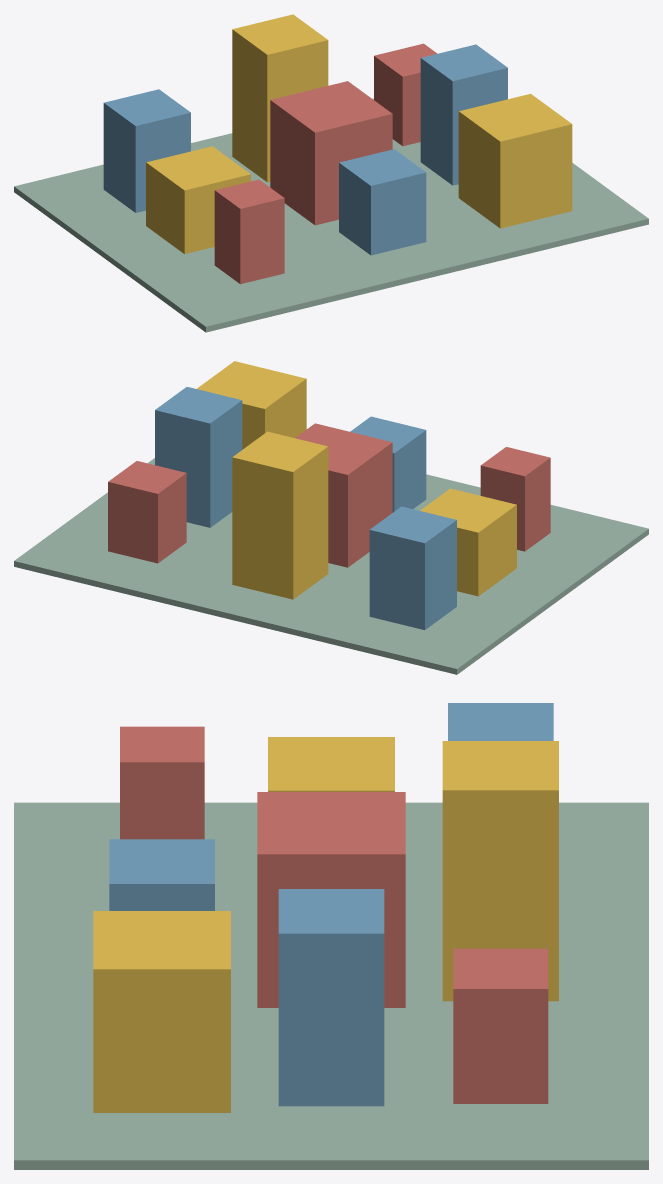
Rendered from 006b-light-performance-pbr.glb.
3 views of the same model, one above another, from view 1: azimuth 30°, elevation 25°; view 2: azimuth 150°, elevation 25°; view 3: azimuth 270°, elevation 25° (orthographic). The views are drawn at different scales.
Parts seen in each view (by area): view 1: PBR Floor, PBR Box 09, PBR Box 05, PBR Box 02, PBR Box 08, PBR Box 06, PBR Box 01, PBR Box 04, PBR Box 07, PBR Box 03; view 2: PBR Floor, PBR Box 02, PBR Box 01, PBR Box 06, PBR Box 05, PBR Box 03, PBR Box 04, PBR Box 09, PBR Box 07, PBR Box 08; view 3: PBR Floor, PBR Box 09, PBR Box 02, PBR Box 06, PBR Box 05, PBR Box 03, PBR Box 07, PBR Box 08, PBR Box 04, PBR Box 01.
Boxes of the visible parts, x1=… form: PBR Floor: x1=14, y1=98, x2=648, y2=332; PBR Box 09: x1=458, y1=93, x2=572, y2=228; PBR Box 05: x1=270, y1=81, x2=392, y2=225; PBR Box 02: x1=232, y1=14, x2=328, y2=182; PBR Box 08: x1=339, y1=149, x2=426, y2=255; PBR Box 06: x1=420, y1=44, x2=507, y2=185; PBR Box 01: x1=103, y1=89, x2=190, y2=212; PBR Box 04: x1=146, y1=146, x2=250, y2=254; PBR Box 07: x1=214, y1=179, x2=284, y2=284; PBR Box 03: x1=374, y1=43, x2=437, y2=146; PBR Floor: x1=14, y1=458, x2=648, y2=674; PBR Box 02: x1=232, y1=431, x2=328, y2=599; PBR Box 01: x1=369, y1=506, x2=456, y2=629; PBR Box 06: x1=155, y1=387, x2=242, y2=527; PBR Box 05: x1=295, y1=423, x2=392, y2=567; PBR Box 03: x1=108, y1=461, x2=186, y2=563; PBR Box 04: x1=420, y1=488, x2=516, y2=596; PBR Box 09: x1=197, y1=361, x2=306, y2=449; PBR Box 07: x1=480, y1=447, x2=550, y2=551; PBR Box 08: x1=350, y1=416, x2=426, y2=512; PBR Floor: x1=14, y1=802, x2=648, y2=1169; PBR Box 09: x1=93, y1=911, x2=230, y2=1112; PBR Box 02: x1=442, y1=741, x2=558, y2=1001; PBR Box 06: x1=278, y1=889, x2=384, y2=1106; PBR Box 05: x1=257, y1=792, x2=405, y2=1007; PBR Box 03: x1=453, y1=948, x2=548, y2=1103; PBR Box 07: x1=120, y1=726, x2=204, y2=839; PBR Box 08: x1=109, y1=839, x2=214, y2=910; PBR Box 04: x1=268, y1=737, x2=394, y2=791; PBR Box 01: x1=448, y1=703, x2=553, y2=740.
Size of the model in its own units: 8 by 2.35 by 6.
